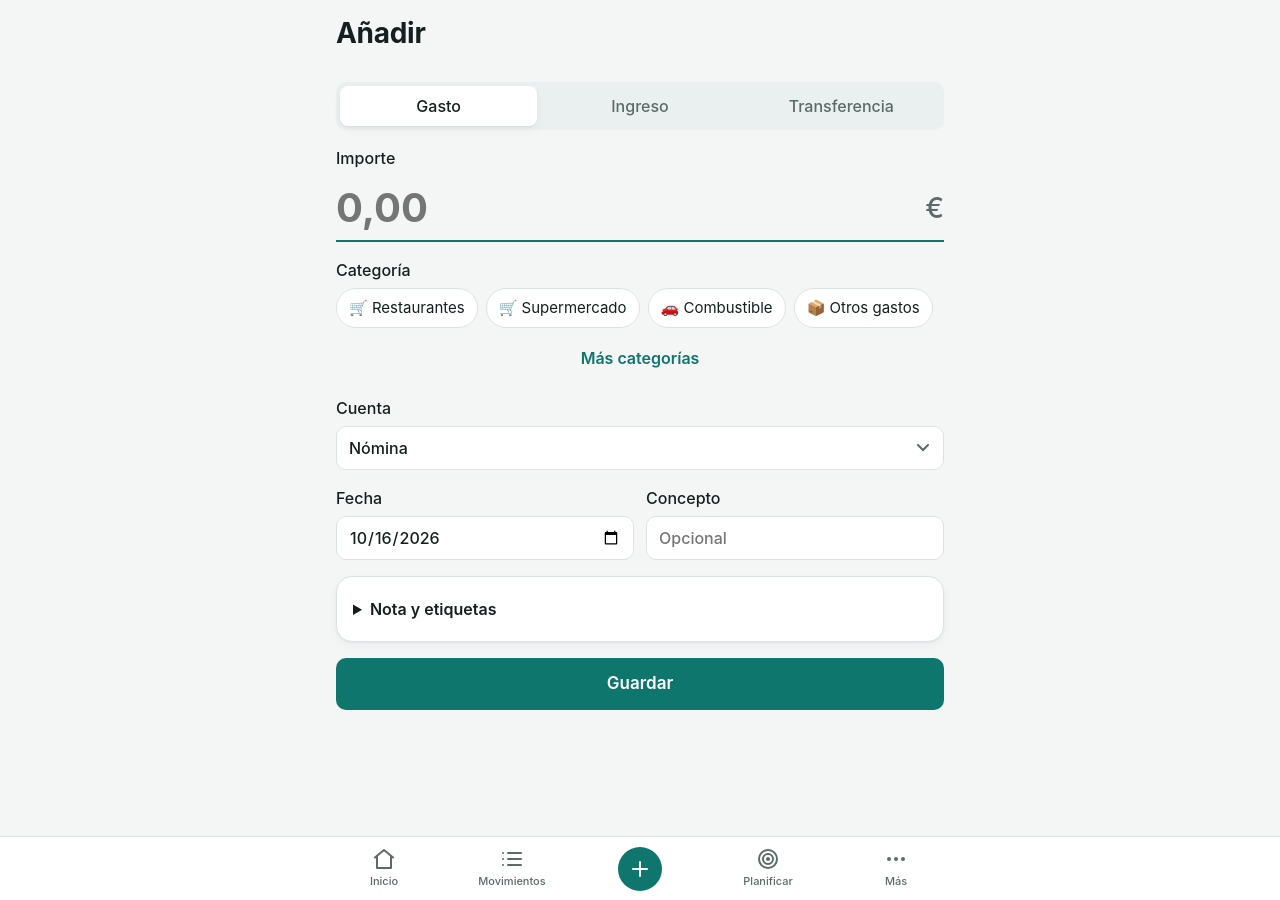
Scenario: quick add › saves an expense with amount, category and one tap
Type "12,5" into the field labelled "Importe".
click(627, 208); type("12,5")  # box [336,176,917,240]
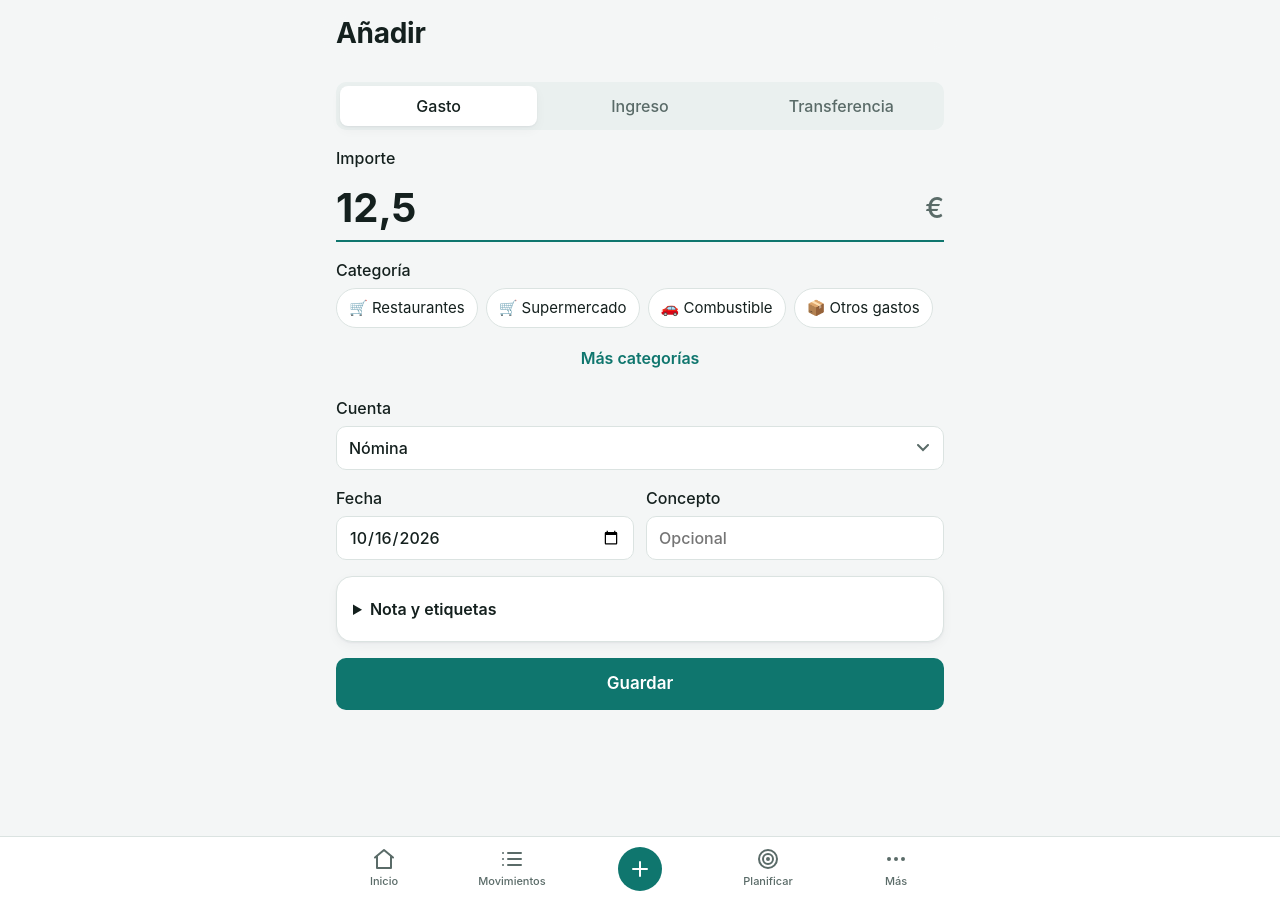
Click the button "🛒 Supermercado".
click(563, 308)  # box [486,288,640,328]
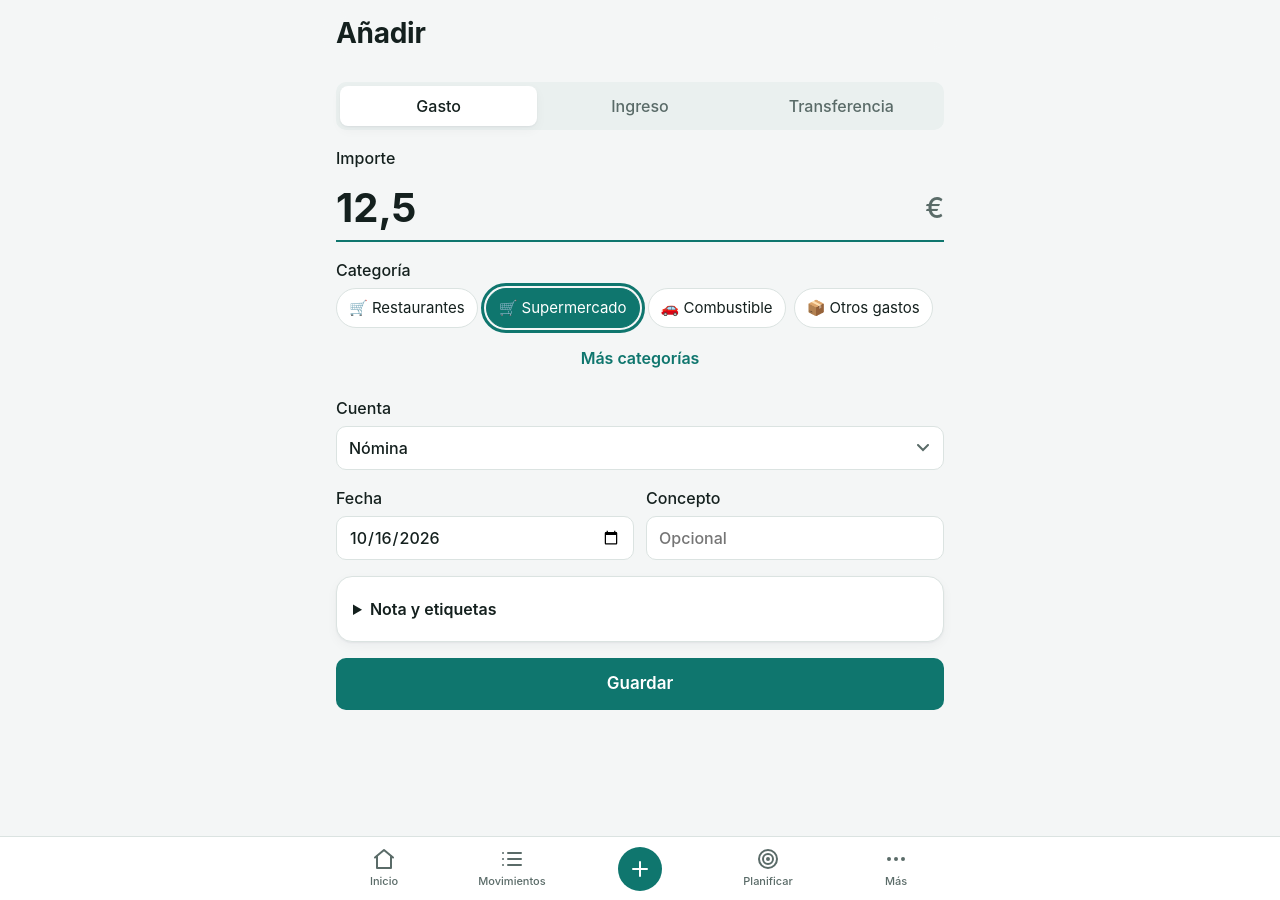
Click the button "Guardar".
click(640, 684)  # box [336,658,944,710]
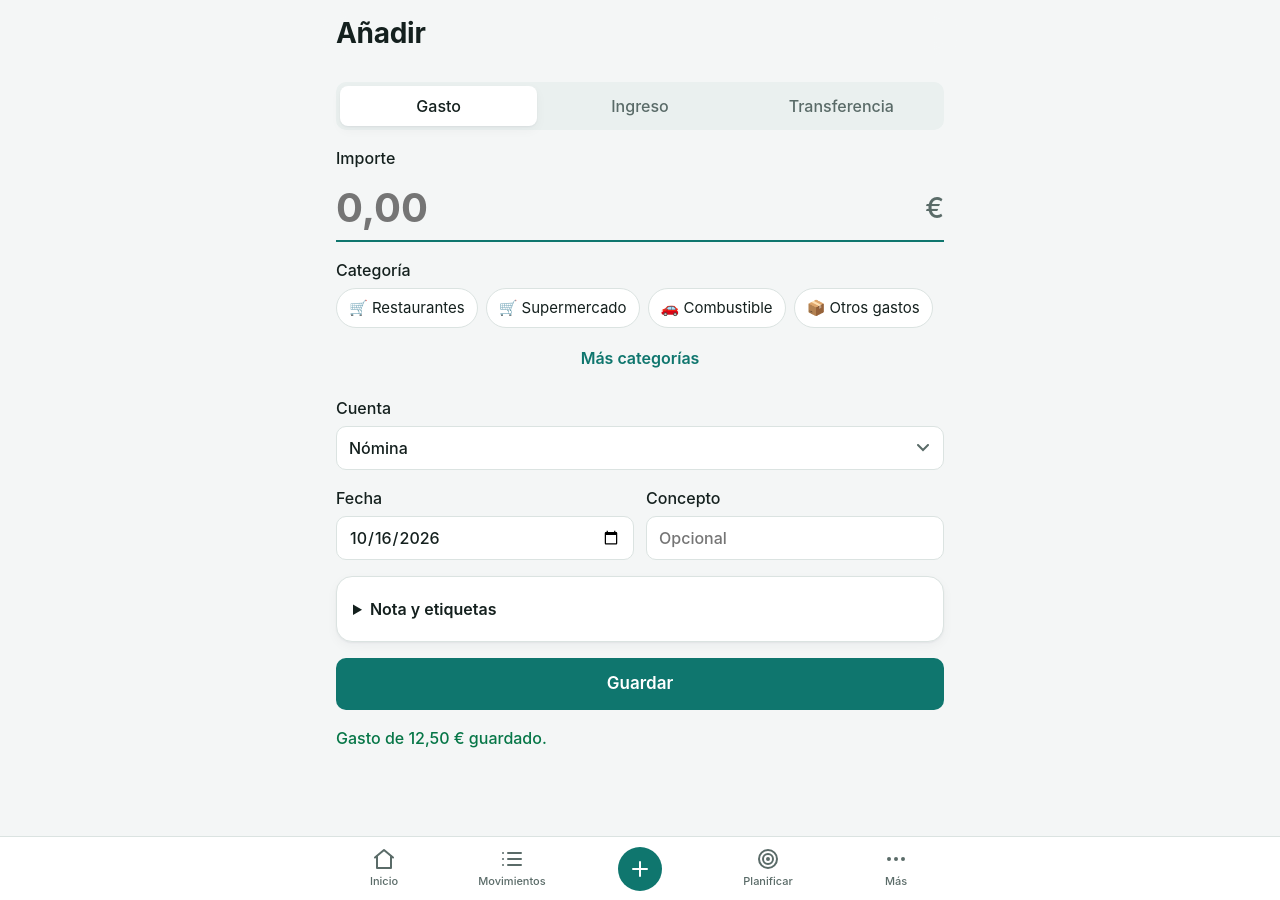
Expected: the text "Gasto de 12,50 € guardado." is shown, [336,728,547,748]
Expected: the field labelled "Importe" is empty, [336,176,917,240]
